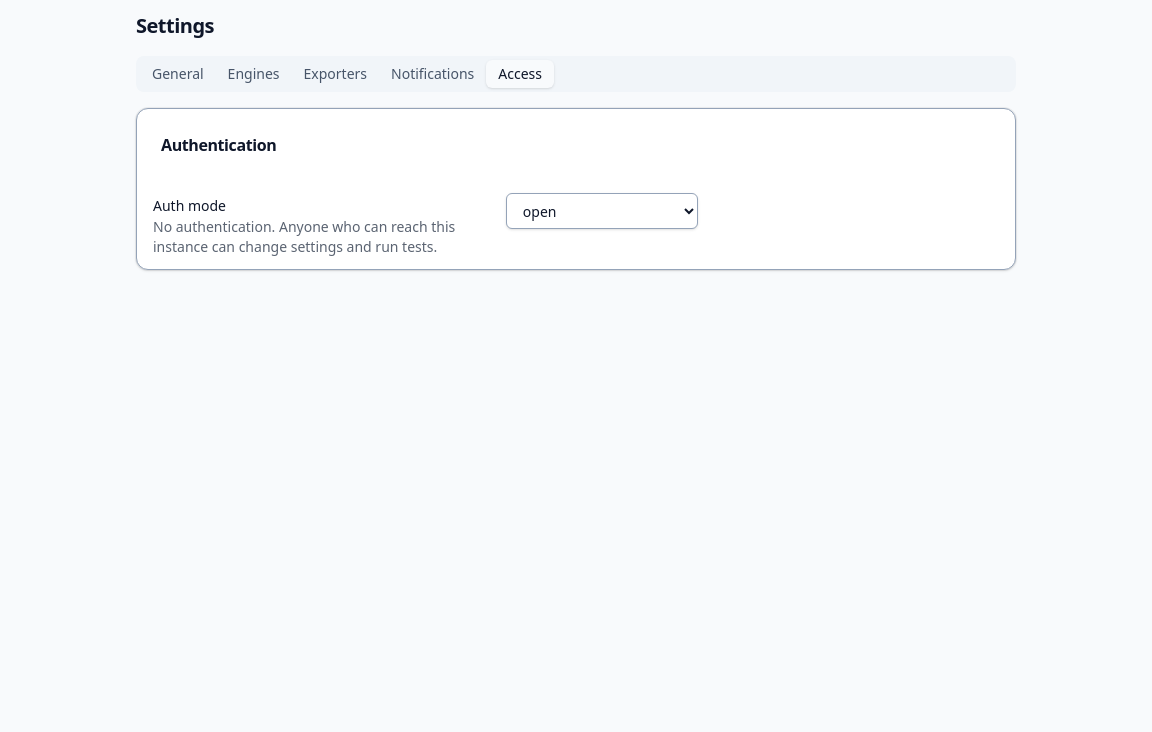
Scenario: Settings page › blocks saving oidc mode with no issuer or client id
The image size is (1152, 732).
Select "oidc" in the dropdown labelled "Auth mode" at {"x": 602, "y": 211}, box [506, 193, 698, 229]
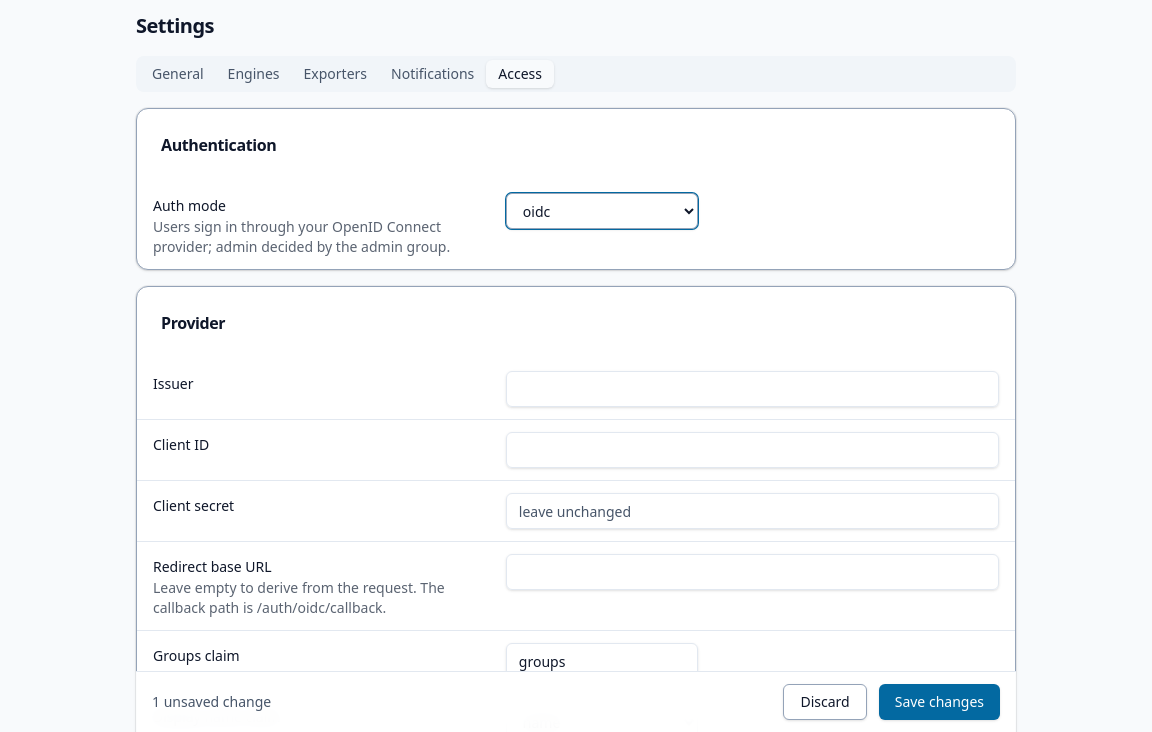
Click the button "Save changes" at {"x": 939, "y": 702}, box [879, 684, 1000, 720]
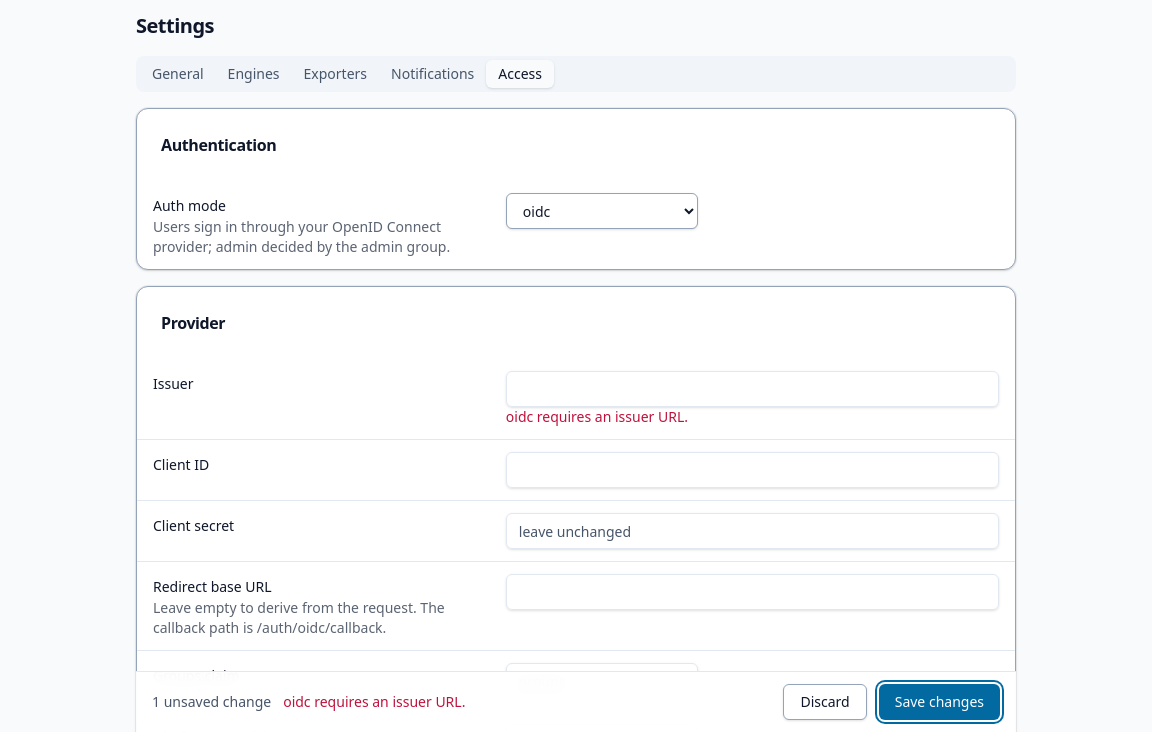
Expected: the message shows "issuer", [283, 692, 466, 711]
